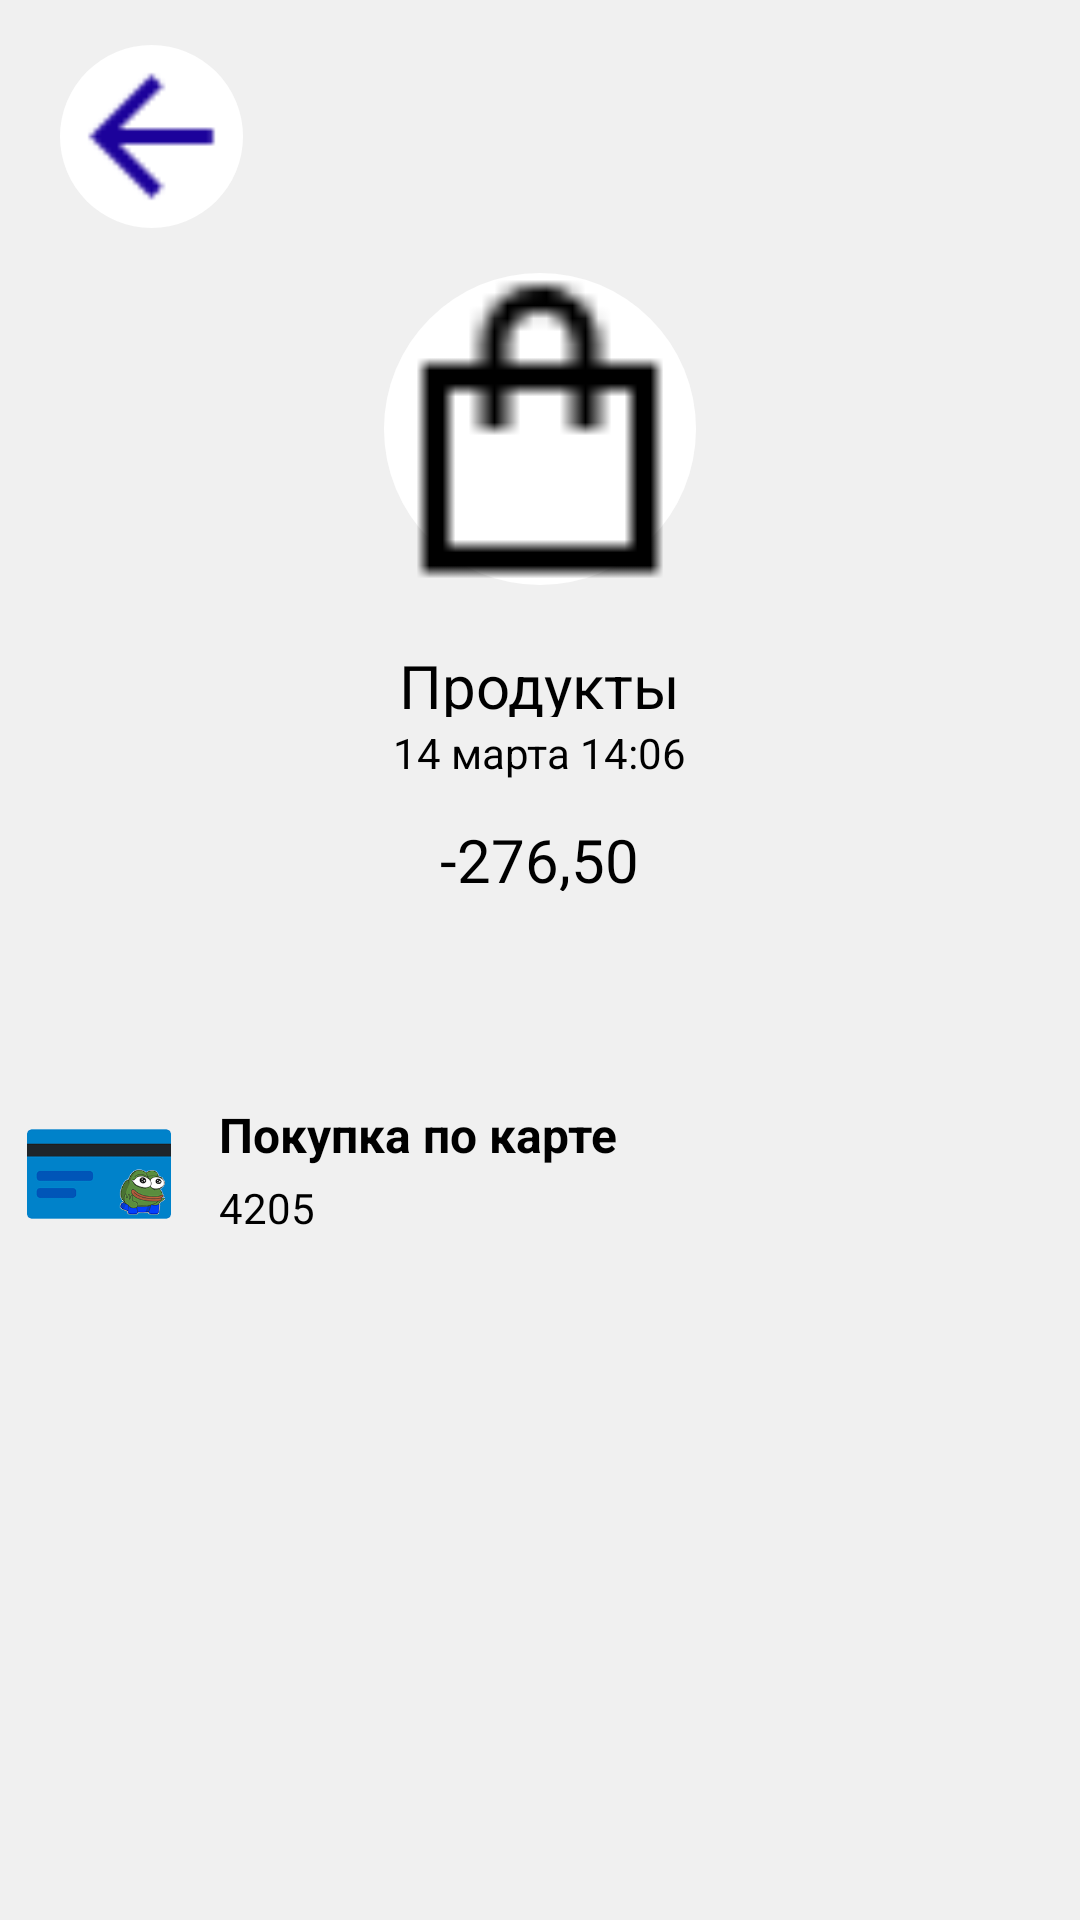

Icons on this 1080w x 1920h Android screen, each with its box as (x1, y1, x2, y2):
back: (60, 45, 243, 228)
tdesign shop: (418, 281, 662, 577)
